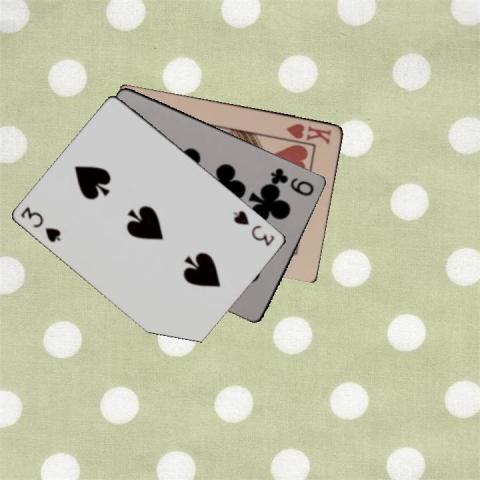3s: (230, 207, 276, 248), (18, 203, 63, 244)
9c: (268, 165, 316, 197)
Kh: (284, 120, 334, 145)
